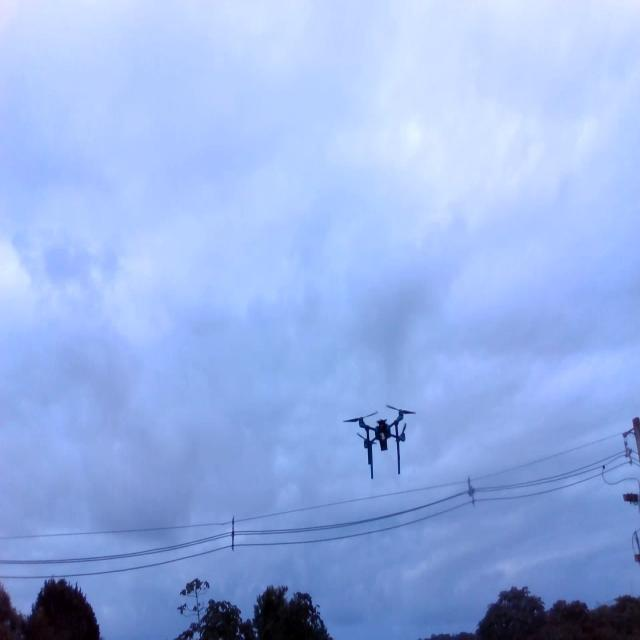-uav-: (340, 397, 424, 489)
